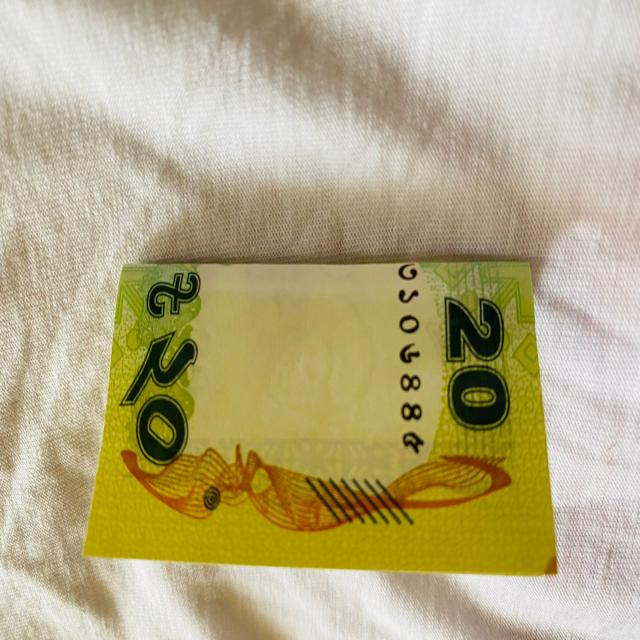Taka: (80, 249, 574, 608)
